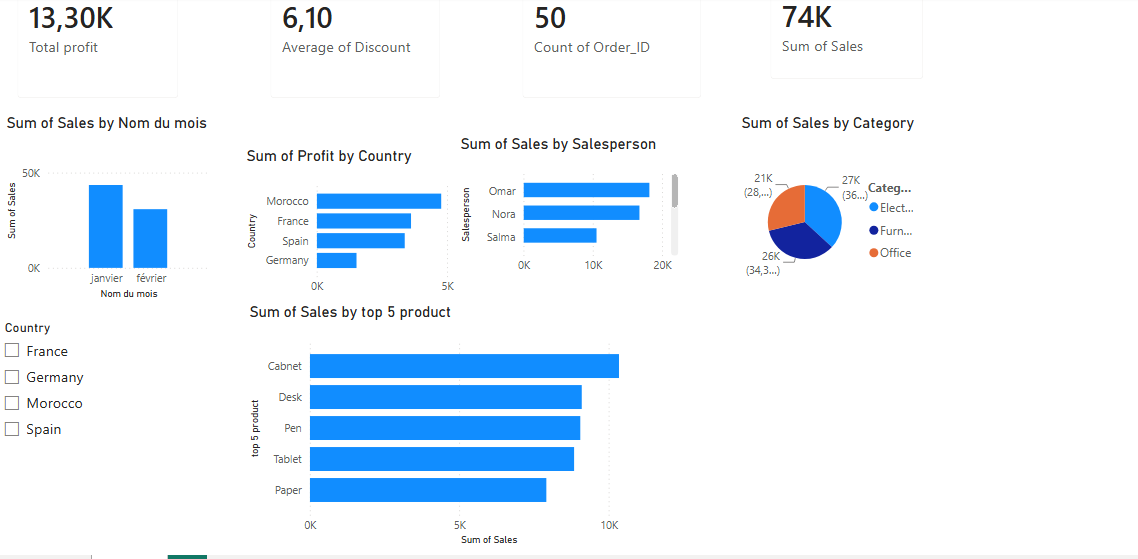

Layout of this report page (visuals, bound fields, positions):
{"tool":"powerbi","page":{"name":"Page 1","canvas":[1280,720],"ordinal":0},"visuals":[{"type":"cardVisual","fields":{"Data":["Sum(Feuil2.Profit)"]},"box":[10.1,0,213.3,196.5],"z":0},{"type":"cardVisual","fields":{"Data":["Avg(Feuil2.Discount)"]},"box":[290.6,0,223.4,196.5],"z":1},{"type":"cardVisual","fields":{"Data":["CountNonNull(Feuil2.Order_ID)"]},"box":[571.1,0,233.5,196.5],"z":2},{"type":"cardVisual","fields":{"Data":["Sum(Feuil2.Sales)"]},"box":[851.7,0,204.9,156.2],"z":3},{"type":"clusteredColumnChart","fields":{"Category":["Feuil2.Nom du mois"],"Y":["Sum(Feuil2.Sales)"]},"box":[10.1,196.5,235.2,210],"z":4},{"type":"clusteredBarChart","fields":{"Category":["Feuil2.Country"],"Y":["Sum(Feuil2.Profit)"]},"box":[277.2,233.5,268.8,173],"z":5},{"type":"clusteredBarChart","fields":{"Category":["Feuil2.Salesperson"],"Y":["Sum(Feuil2.Sales)"]},"box":[514,220.1,252,162.9],"z":6},{"type":"pieChart","fields":{"Category":["Feuil2.Category"],"Y":["Sum(Feuil2.Sales)"]},"box":[826.5,196.5,211.7,210],"z":7},{"type":"slicer","fields":{"Values":["Feuil2.Country"]},"box":[0,421.6,280,150],"z":8},{"type":"clusteredBarChart","fields":{"Category":["Feuil2.Product"],"Y":["Sum(Feuil2.Sales)"]},"box":[280.5,421.6,485.5,273.8],"z":9}]}

Visuals, with their boxes on the page's 1280x720 design canvas (x1, y1, x2, y2). These are canvas units, not pixel positions in the 1138x559 screenshot, which may show the page scaled, cropped or inside an application window:
cardVisual - Sum(Feuil2.Profit): {"x1": 10, "y1": 0, "x2": 223, "y2": 196}
cardVisual - Avg(Feuil2.Discount): {"x1": 291, "y1": 0, "x2": 514, "y2": 196}
cardVisual - CountNonNull(Feuil2.Order_ID): {"x1": 571, "y1": 0, "x2": 805, "y2": 196}
cardVisual - Sum(Feuil2.Sales): {"x1": 852, "y1": 0, "x2": 1057, "y2": 156}
clusteredColumnChart - Feuil2.Nom du mois x Sum(Feuil2.Sales): {"x1": 10, "y1": 196, "x2": 245, "y2": 406}
clusteredBarChart - Feuil2.Country x Sum(Feuil2.Profit): {"x1": 277, "y1": 234, "x2": 546, "y2": 406}
clusteredBarChart - Feuil2.Salesperson x Sum(Feuil2.Sales): {"x1": 514, "y1": 220, "x2": 766, "y2": 383}
pieChart - Feuil2.Category x Sum(Feuil2.Sales): {"x1": 826, "y1": 196, "x2": 1038, "y2": 406}
slicer - Feuil2.Country: {"x1": 0, "y1": 422, "x2": 280, "y2": 572}
clusteredBarChart - Feuil2.Product x Sum(Feuil2.Sales): {"x1": 280, "y1": 422, "x2": 766, "y2": 695}
